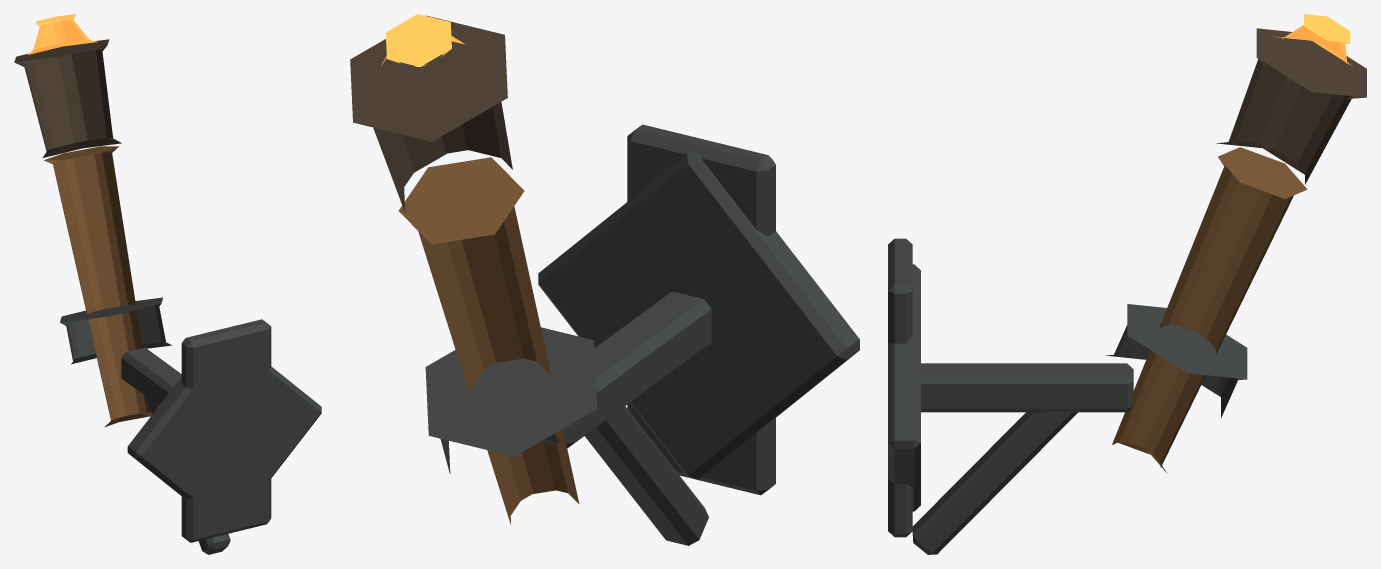
The model's file is wall_torch.glb.
3 renders of one model, left to right at view 1: azimuth 30°, elevation 25°; view 2: azimuth 150°, elevation 25°; view 3: azimuth 270°, elevation 25°, orthographic. The views are drawn at different scales.
Parts seen in each view (by area): view 1: wall_bracket, wall_torch_pole, wall_torch_head, wall_torch_embers; view 2: wall_bracket, wall_torch_pole, wall_torch_head, wall_torch_embers; view 3: wall_bracket, wall_torch_pole, wall_torch_head, wall_torch_embers.
Part boxes in pixels (<box>): wall_bracket: <box>60,297,321,554</box>; wall_torch_pole: <box>44,146,152,427</box>; wall_torch_head: <box>14,39,121,157</box>; wall_torch_embers: <box>27,14,97,54</box>; wall_bracket: <box>425,124,859,545</box>; wall_torch_pole: <box>398,157,579,525</box>; wall_torch_head: <box>350,15,512,212</box>; wall_torch_embers: <box>381,14,465,66</box>; wall_bracket: <box>888,238,1247,554</box>; wall_torch_pole: <box>1112,147,1307,473</box>; wall_torch_head: <box>1217,28,1366,184</box>; wall_torch_embers: <box>1274,14,1352,66</box>.
Bounding box in the file's own units: 0.3281 × 0.7151 × 0.5846.
